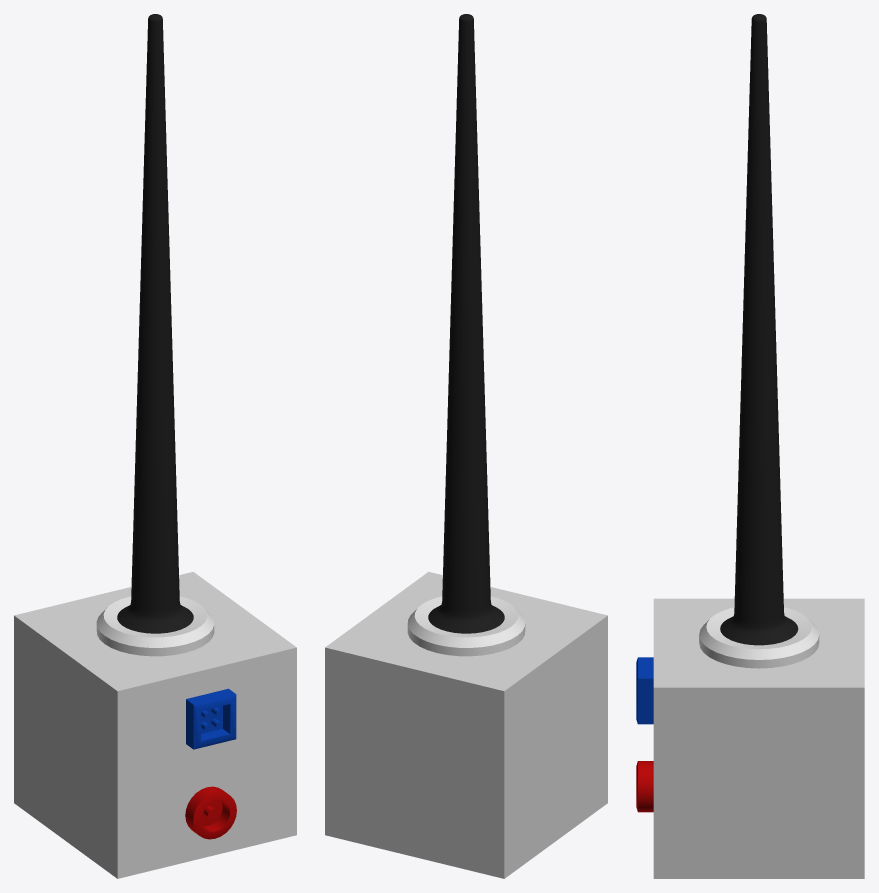
Rendered from Beacon.gltf.
The picture shows the model from 3 angles, left to right: view 1: azimuth 30°, elevation 25°; view 2: azimuth 150°, elevation 25°; view 3: azimuth 270°, elevation 25°; orthographic projection.
Parts seen in each view (by area): view 1: base; view 2: base; view 3: base.
Boxes of the visible parts, left/top/right/bottom form: base: left=14, top=14, right=296, bottom=878; base: left=325, top=14, right=607, bottom=878; base: left=636, top=14, right=864, bottom=878.
Size of the model in its own units: 0.25 by 1.07 by 0.2706.
